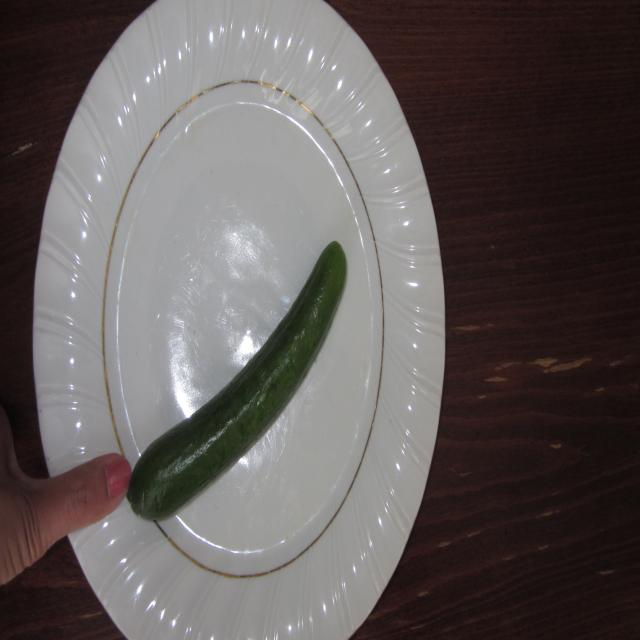cucumber: (124, 211, 358, 522)
